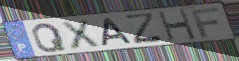A: (101, 17, 135, 48)
F: (189, 6, 221, 38)
H: (157, 8, 199, 43)
Q: (31, 22, 69, 54)
X: (58, 19, 103, 51)
Z: (123, 12, 167, 46)
